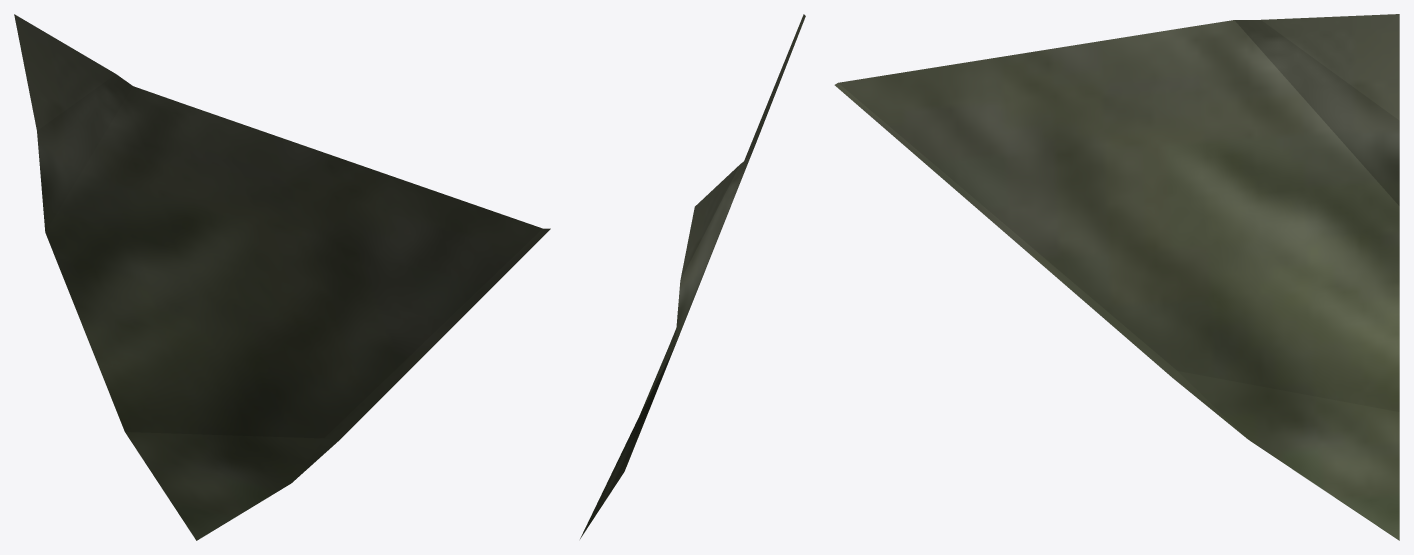
3 renders of one model, left to right at view 1: azimuth 30°, elevation 25°; view 2: azimuth 150°, elevation 25°; view 3: azimuth 270°, elevation 25°, orthographic. The views are drawn at different scales.
Bounding box in the file's own units: 0.3003 × 0.8986 × 1.01.
Materials: 1 (1 with a texture image).
